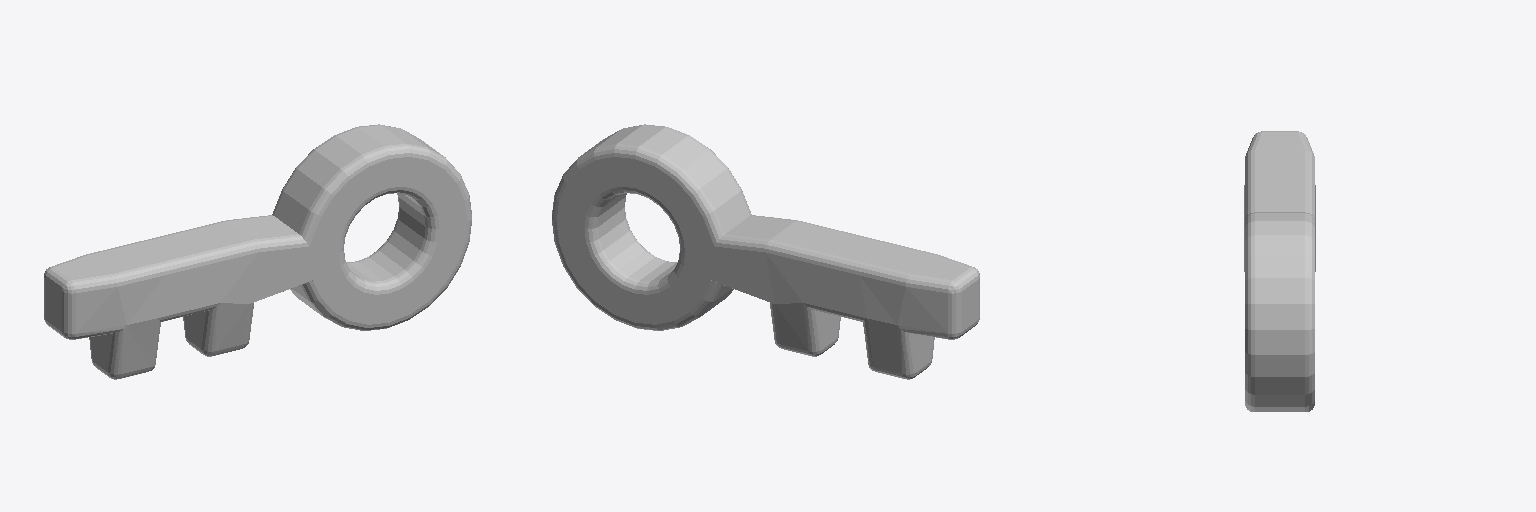
File: key.obj
3 renders of one model, left to right at view 1: azimuth 30°, elevation 25°; view 2: azimuth 150°, elevation 25°; view 3: azimuth 270°, elevation 25°, orthographic.
Visible parts, largest first — view 1: Cylinder; view 2: Cylinder; view 3: Cylinder.
Part boxes in pixels (left/top/right/bottom): Cylinder: left=44, top=124, right=471, bottom=379; Cylinder: left=552, top=124, right=979, bottom=379; Cylinder: left=1244, top=131, right=1315, bottom=411.
Size of the model in its own units: 3.73 by 1.6 by 0.5825.